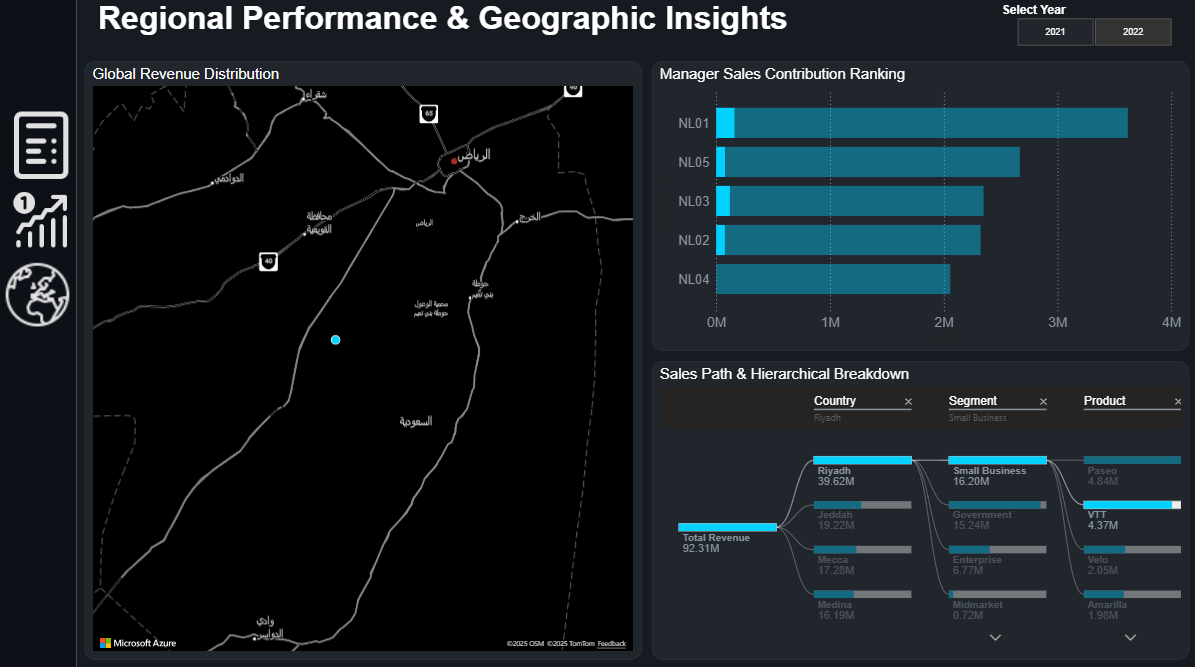

Layout of this report page (visuals, bound fields, positions):
{"tool":"powerbi","page":{"name":"Regional & Manager Performance","canvas":[1600,900],"ordinal":2},"visuals":[{"type":"shape","box":[0,0,105,1040],"z":0},{"type":"textbox","box":[128.3,0,948.3,73.3],"z":1000},{"type":"image","box":[0,253.3,118.3,93.3],"z":2000},{"type":"image","box":[0,145,115,108.3],"z":3000},{"type":"image","box":[6.7,346.7,91.7,103.3],"z":4000},{"type":"slicer","title":"Select Year","fields":{"Values":["Source.Date.Variation.Date Hierarchy.Year"]},"box":[1333.3,10,255,63],"z":5000},{"type":"azureMap","title":"Global Revenue Distribution","fields":{"Category":["Source.Country"],"Size":["Key Measures.Total Revenue"]},"box":[115,86.7,743.3,798.3],"z":6000},{"type":"decompositionTreeVisual","title":"Sales Path & Hierarchical Breakdown","fields":{"Analyze":["Key Measures.Total Revenue"],"ExplainBy":["Source.Country","Source.Segment","Source.Product"]},"box":[871.7,486.7,716.7,398.3],"z":7000},{"type":"clusteredBarChart","title":"Manager Sales Contribution Ranking","fields":{"Category":["Source.Manager ID"],"Y":["Key Measures.Total Profit"]},"box":[871.7,86.7,716.7,386.7],"z":8000}]}

Visuals, with their boxes in screenshot pixels (x1, y1, x2, y2), scaled from the page's 1600x900 canvas onto the 1195x667 screenshot:
shape: 0, 0, 78, 666
textbox: 96, 0, 804, 54
image: 0, 188, 88, 257
image: 0, 107, 86, 188
image: 5, 257, 73, 334
"Select Year" slicer: 996, 7, 1186, 54
"Global Revenue Distribution" azureMap: 86, 64, 641, 656
"Sales Path & Hierarchical Breakdown" decompositionTreeVisual: 651, 361, 1186, 656
"Manager Sales Contribution Ranking" clusteredBarChart: 651, 64, 1186, 351
